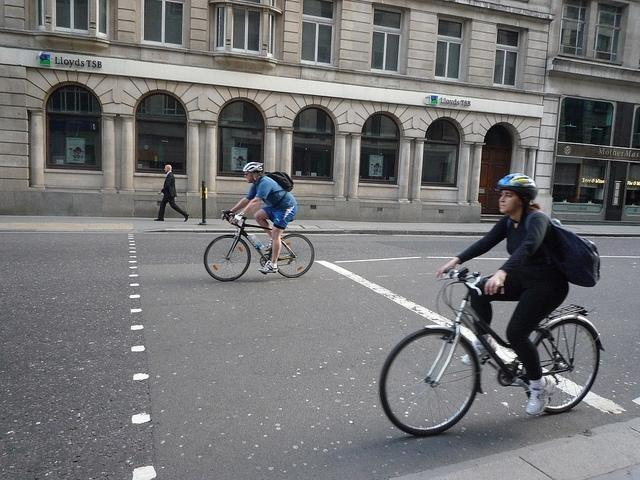bicycle: (377, 267, 607, 435), (203, 209, 314, 282)
